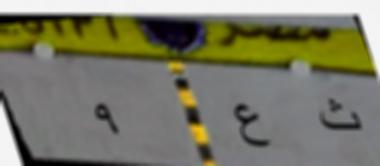9: (84, 93, 128, 142)
ain: (230, 94, 272, 154)
thaa: (314, 96, 366, 140)
